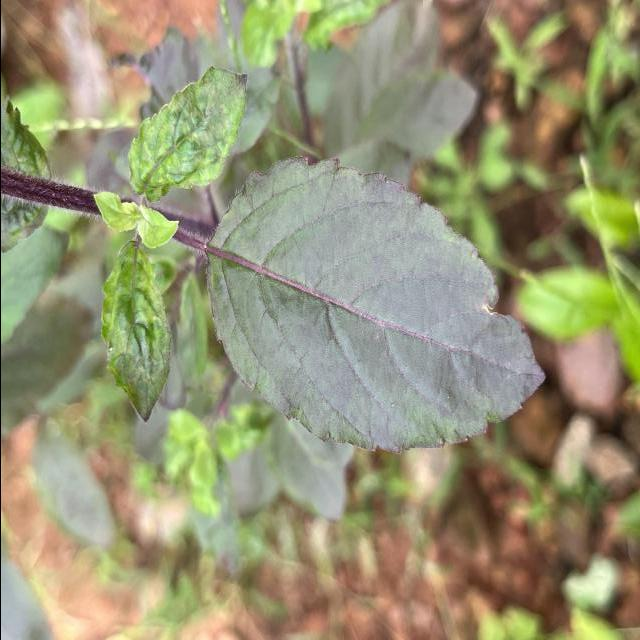Ocimum tenuiflorum: (200, 150, 550, 456)
